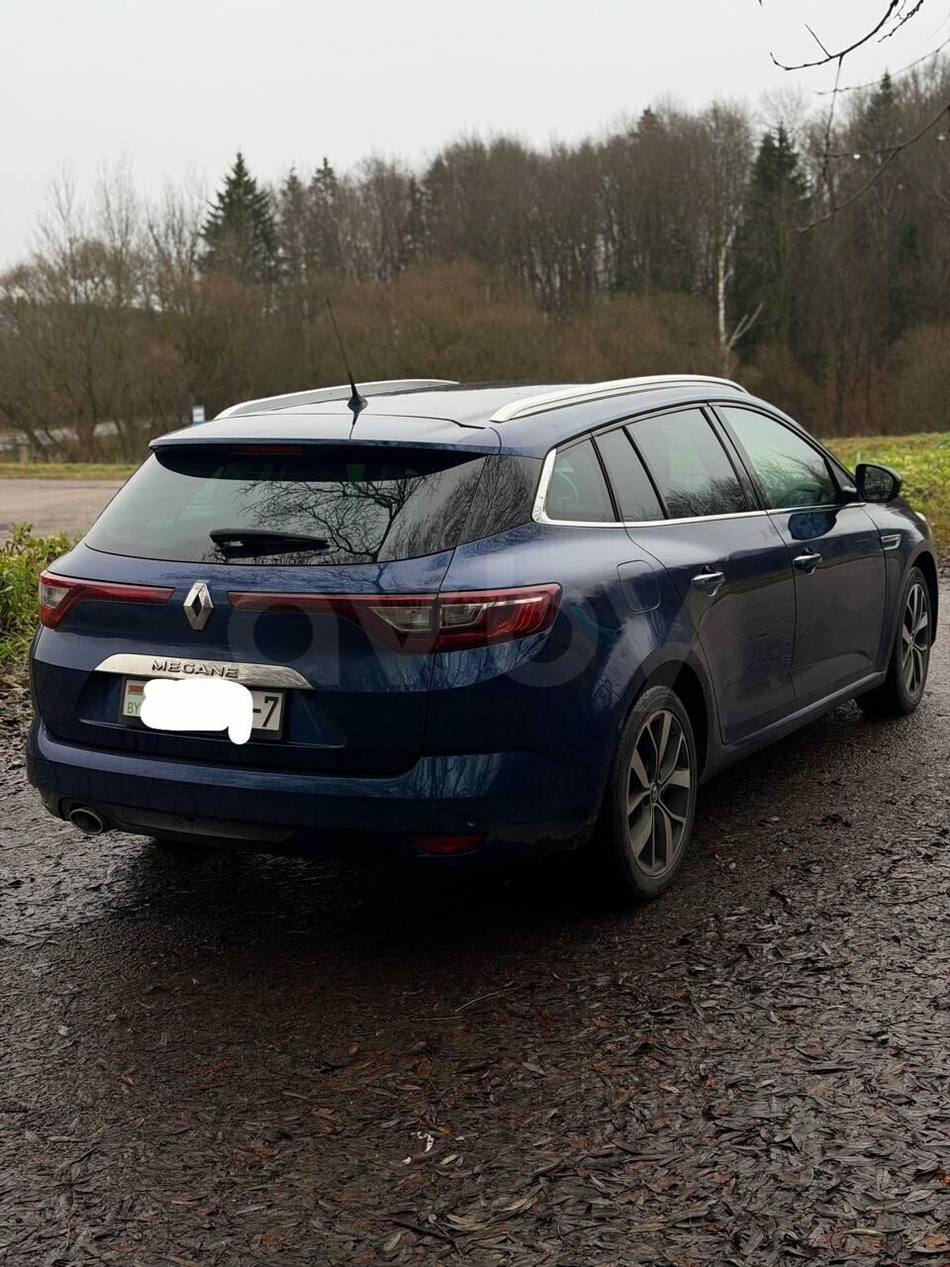Megane_2016-2020: (13, 374, 950, 914)
